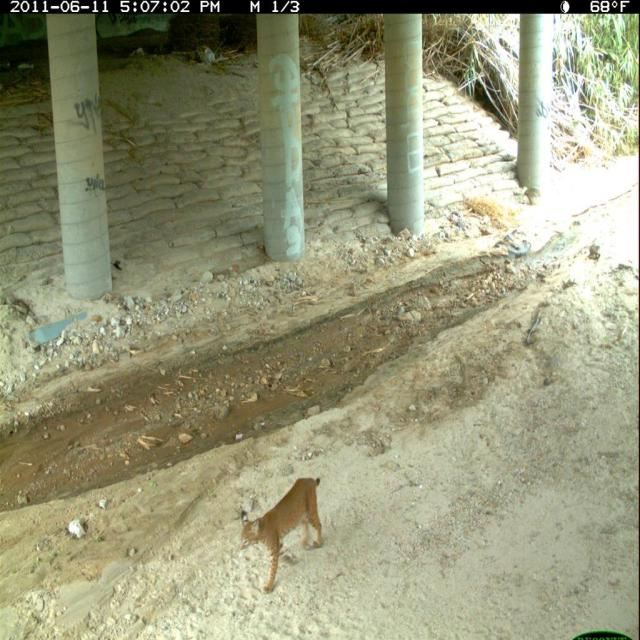bobcat: (238, 473, 326, 598)
